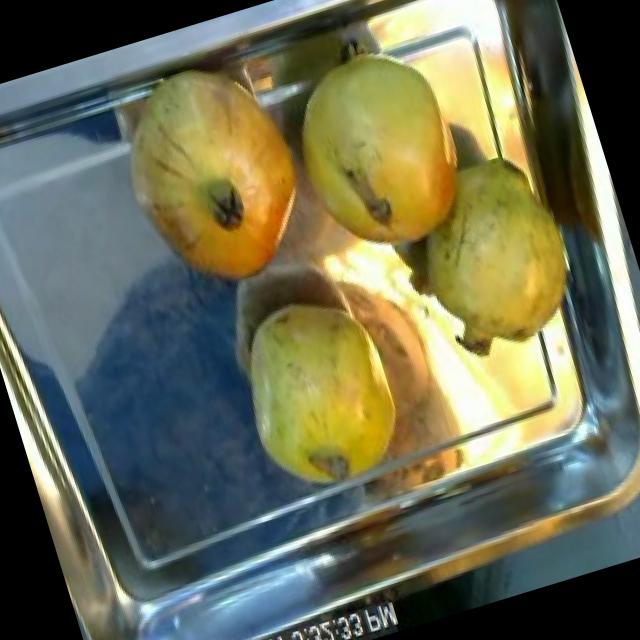fruit: (87, 29, 344, 324), (255, 0, 512, 291), (210, 258, 436, 516)
